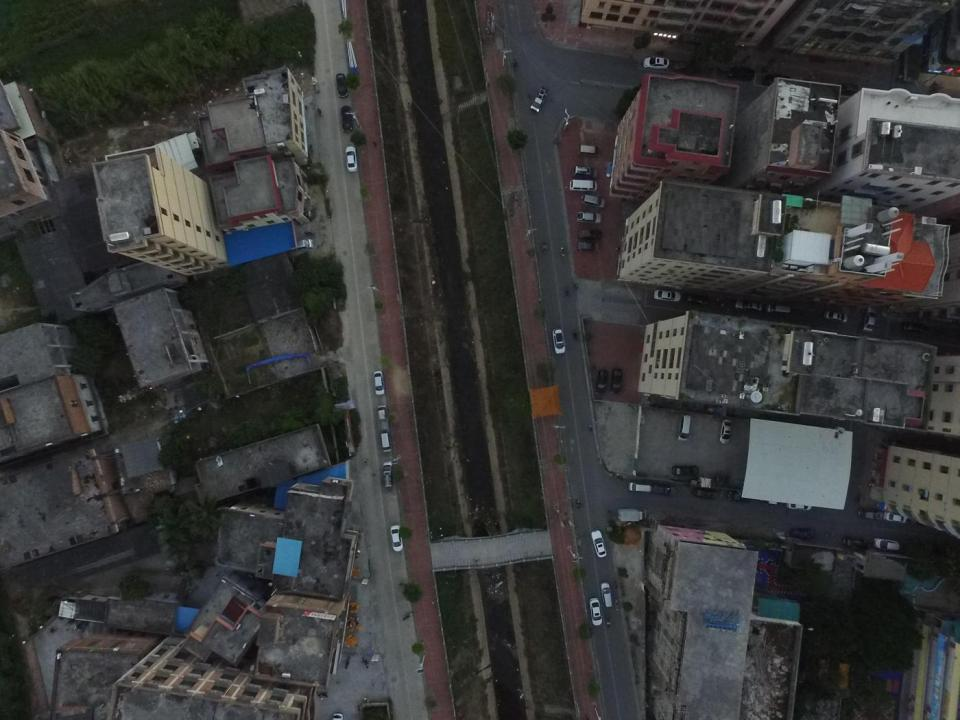car: (590, 528, 608, 558), (339, 105, 354, 133), (861, 307, 877, 333), (692, 485, 719, 500), (345, 145, 359, 173), (589, 598, 603, 626), (552, 327, 566, 355), (653, 288, 681, 302), (734, 298, 762, 312), (726, 489, 752, 503), (786, 498, 814, 511), (576, 211, 602, 225), (643, 55, 669, 69), (390, 525, 403, 552), (873, 538, 900, 551), (373, 370, 386, 396), (595, 370, 608, 396), (610, 368, 623, 394), (902, 320, 928, 333), (791, 526, 815, 540), (843, 535, 868, 548), (683, 292, 708, 305), (382, 461, 394, 488), (336, 72, 348, 98), (652, 483, 676, 496), (671, 464, 697, 476), (577, 228, 603, 240), (719, 419, 731, 444), (857, 508, 881, 520), (823, 310, 847, 322), (884, 510, 906, 523), (577, 240, 598, 252), (628, 482, 652, 492)
truck: (530, 87, 548, 112), (377, 404, 390, 431)
van: (568, 178, 598, 192), (580, 194, 606, 210), (677, 413, 691, 442), (600, 582, 614, 608), (764, 302, 790, 316), (572, 165, 598, 177), (289, 240, 313, 250), (380, 432, 391, 453), (579, 145, 597, 156)
